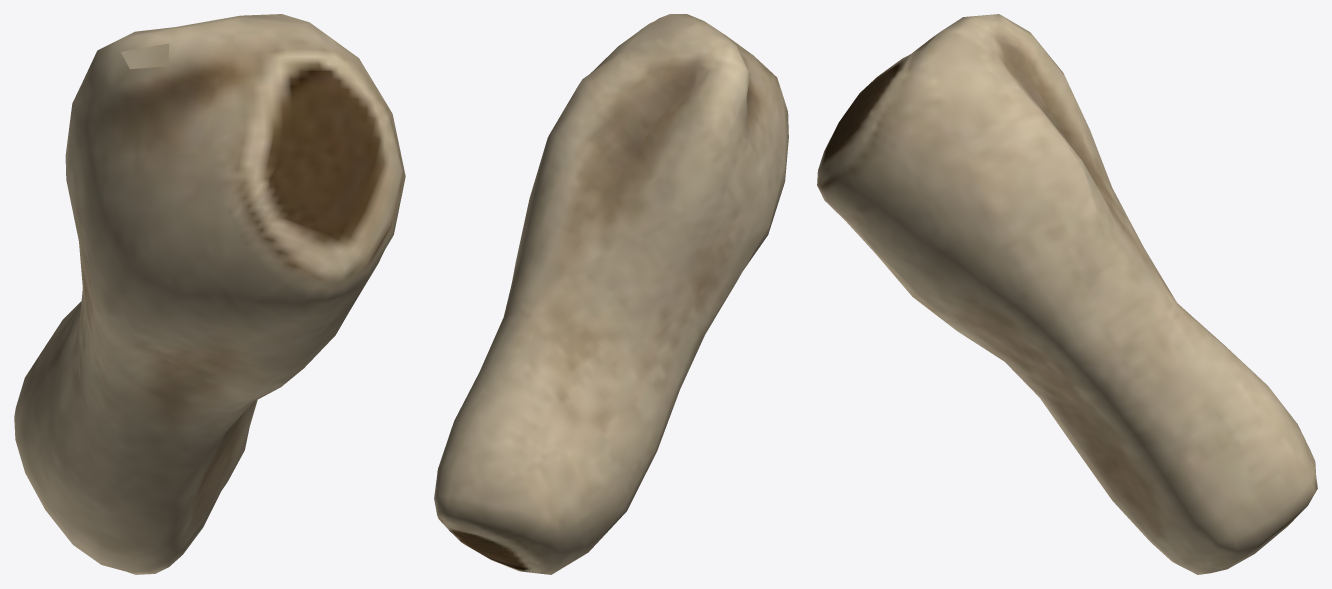
Rendered from Caudal_Vertebrae4.glb.
The picture shows the model from 3 angles, left to right: view 1: azimuth 30°, elevation 25°; view 2: azimuth 150°, elevation 25°; view 3: azimuth 270°, elevation 25°; orthographic projection. The views are drawn at different scales.
Visible parts, largest first — view 1: Caudal_Vertebrae_05; view 2: Caudal_Vertebrae_05; view 3: Caudal_Vertebrae_05.
Part boxes in pixels (x1=…): Caudal_Vertebrae_05: x1=14, y1=14, x2=405, y2=574; Caudal_Vertebrae_05: x1=434, y1=14, x2=788, y2=574; Caudal_Vertebrae_05: x1=817, y1=14, x2=1317, y2=574.
Size of the model in its own units: 0.0179 by 0.0393 by 0.0348.
1 material, 1 textured.
